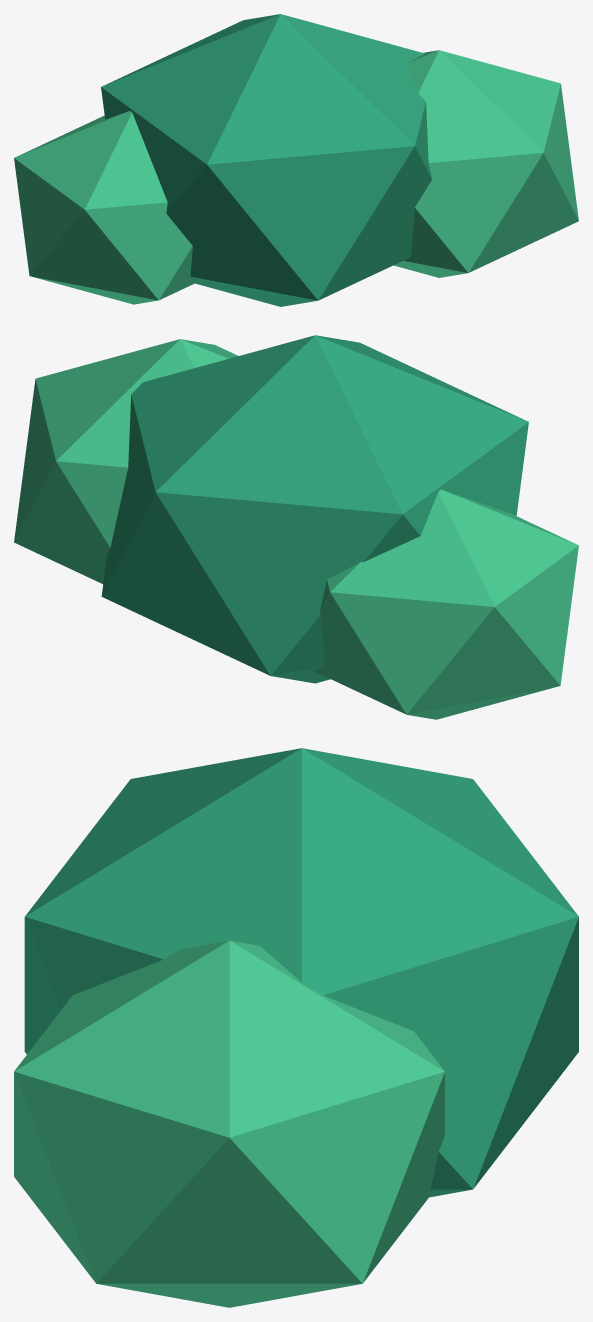
Rendered from prop_bush.glb.
3 renders of one model, top to bottom at view 1: azimuth 30°, elevation 25°; view 2: azimuth 150°, elevation 25°; view 3: azimuth 270°, elevation 25°, orthographic. The views are drawn at different scales.
Visible parts, largest first — view 1: prop_bush; view 2: prop_bush; view 3: prop_bush.
Boxes of the visible parts, x1,y1,x2,y2 form: prop_bush: (14,14,578,306); prop_bush: (14,335,578,719); prop_bush: (14,748,578,1307).
Size of the model in its own units: 1.25 by 0.72 by 0.7805.
